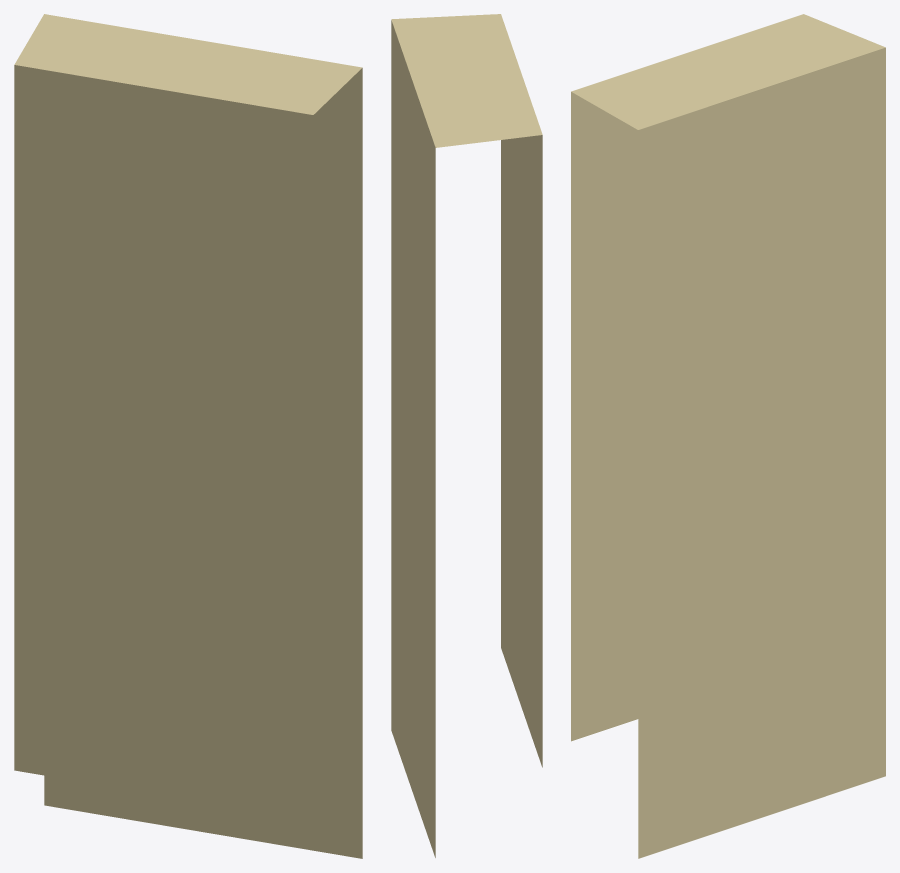
The model's file is wall25.fbx.
3 renders of one model, left to right at view 1: azimuth 30°, elevation 25°; view 2: azimuth 150°, elevation 25°; view 3: azimuth 270°, elevation 25°, orthographic. The views are drawn at different scales.
Visible parts, largest first — view 1: duvar.012; view 2: duvar.012; view 3: duvar.012.
Part boxes in pixels (x1=…): duvar.012: x1=14, y1=14, x2=362, y2=858; duvar.012: x1=391, y1=14, x2=542, y2=857; duvar.012: x1=571, y1=14, x2=885, y2=858.
Bounding box in the file's own units: 15.38 × 44.99 × 17.62.
